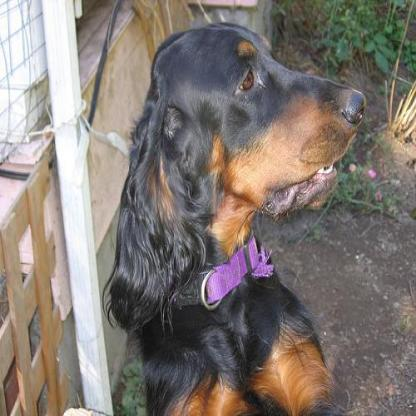Gordon_setter: (100, 20, 367, 412)
